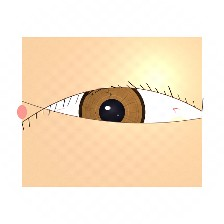pinguecula_lesion: (161, 107, 197, 136)
